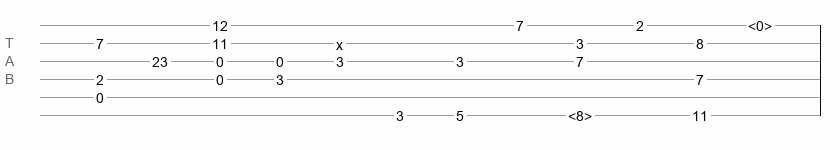0: (96, 90, 104, 100), (216, 72, 224, 82), (216, 54, 224, 64), (276, 54, 284, 64)
11: (212, 36, 228, 46), (692, 108, 708, 118)
12: (212, 18, 228, 28)
2: (96, 72, 104, 82), (636, 18, 644, 28)
23: (152, 54, 168, 64)
3: (276, 72, 284, 82), (336, 54, 344, 64), (396, 108, 404, 118), (456, 54, 464, 64), (576, 36, 584, 46)
5: (456, 108, 464, 118)
7: (96, 36, 104, 46), (516, 18, 524, 28), (576, 54, 584, 64), (696, 72, 704, 82)
8: (696, 36, 704, 46)
harmonic: (568, 108, 592, 118), (748, 18, 772, 28)
x: (336, 37, 343, 45)
